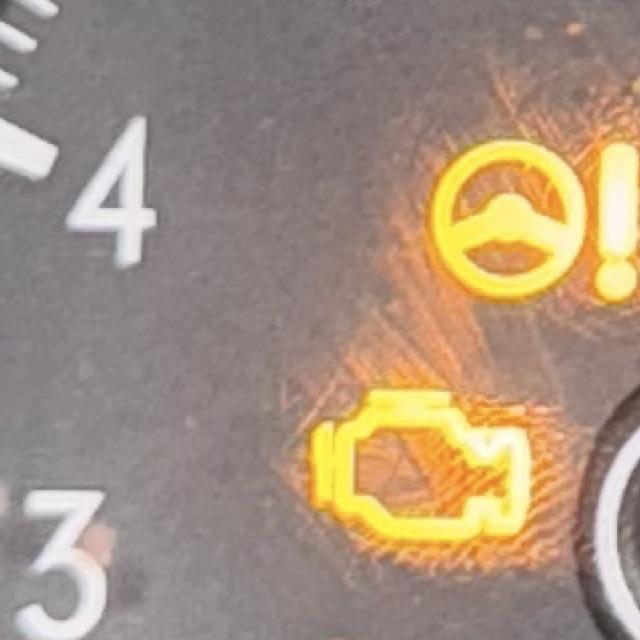Engine Issue: (308, 388, 536, 548)
Steering Wheel Locked: (425, 138, 640, 300)
